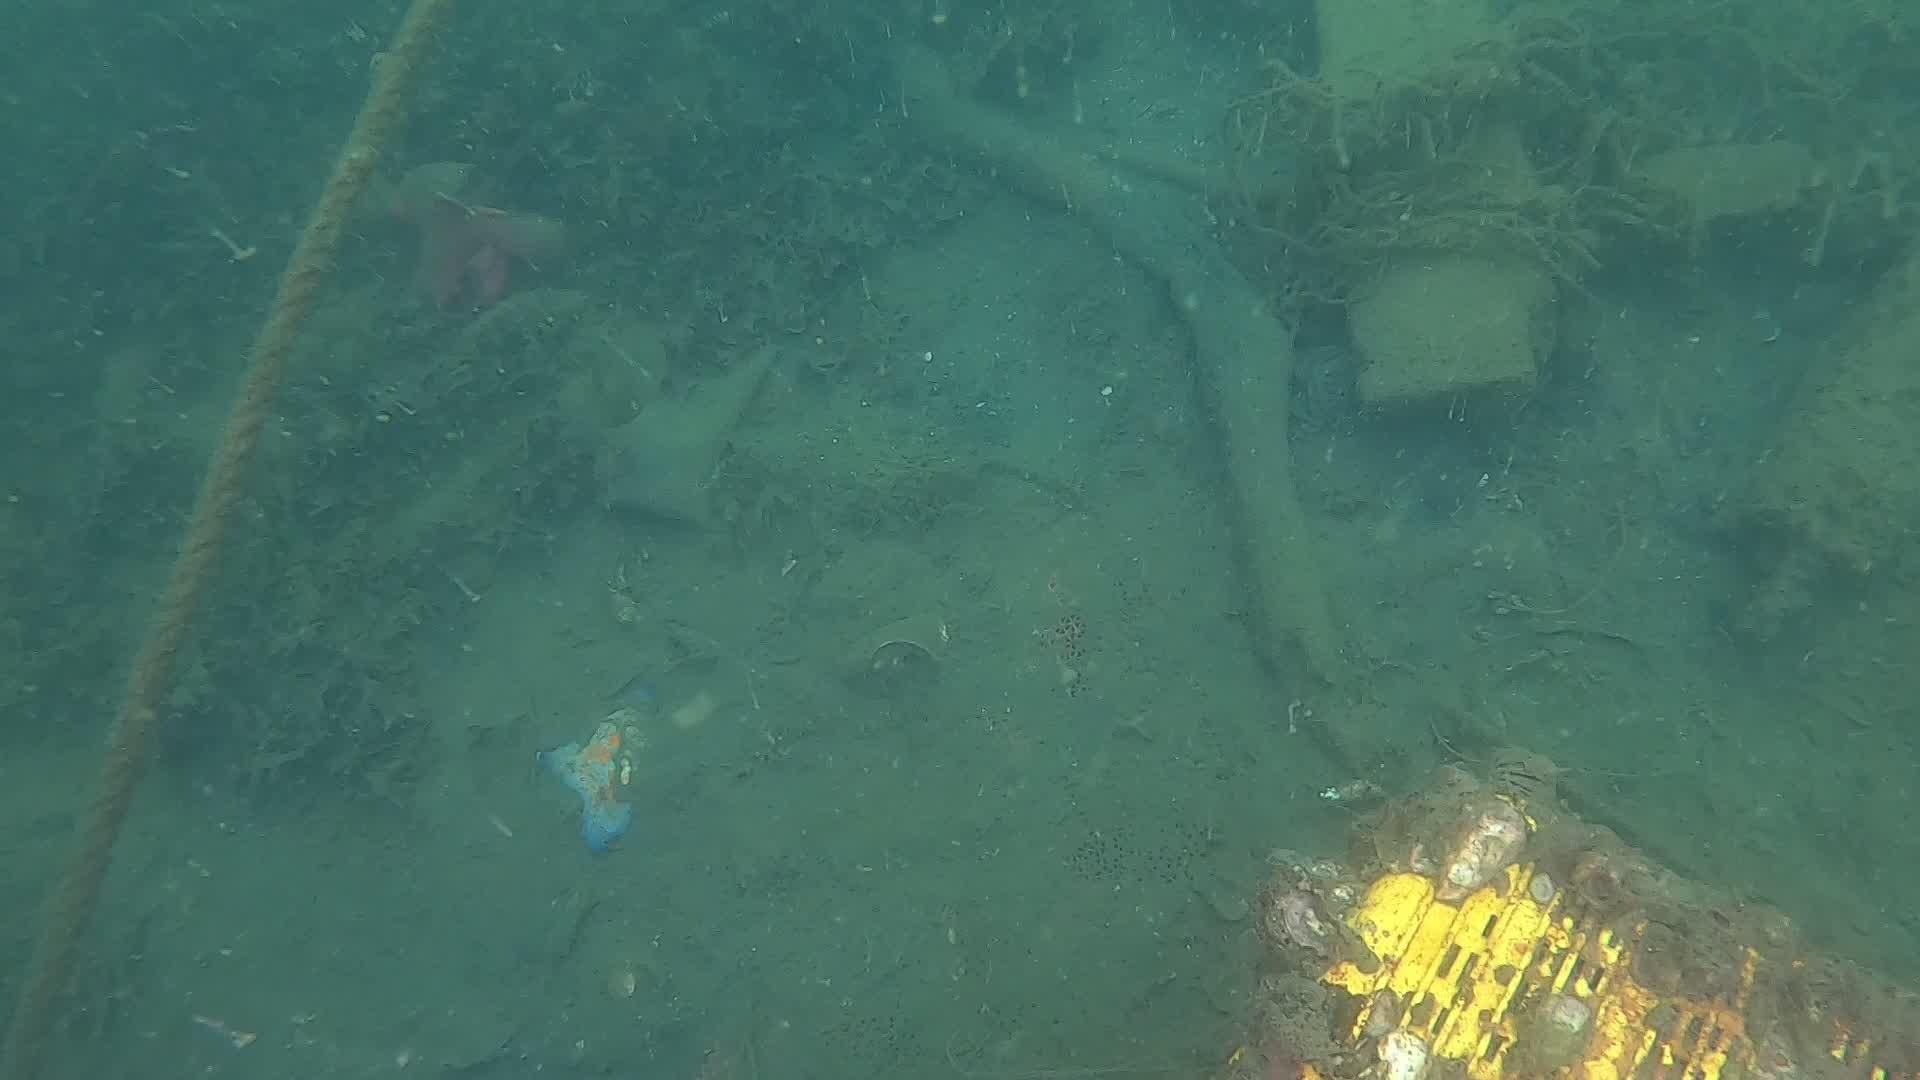rope: (0, 0, 443, 1080)
